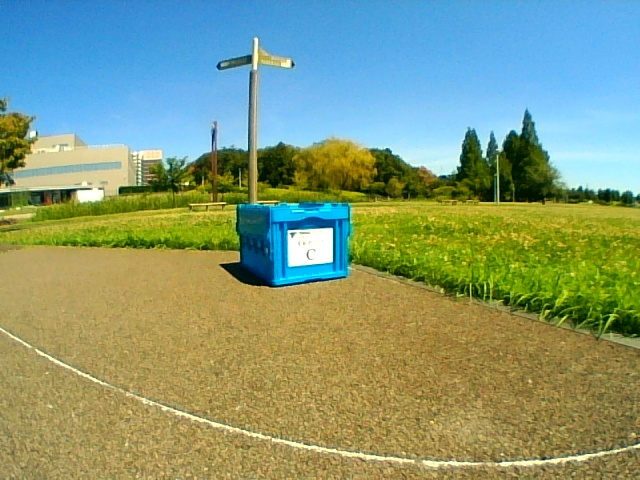blue_box: (238, 204, 347, 276)
tag_c: (289, 230, 333, 264)
